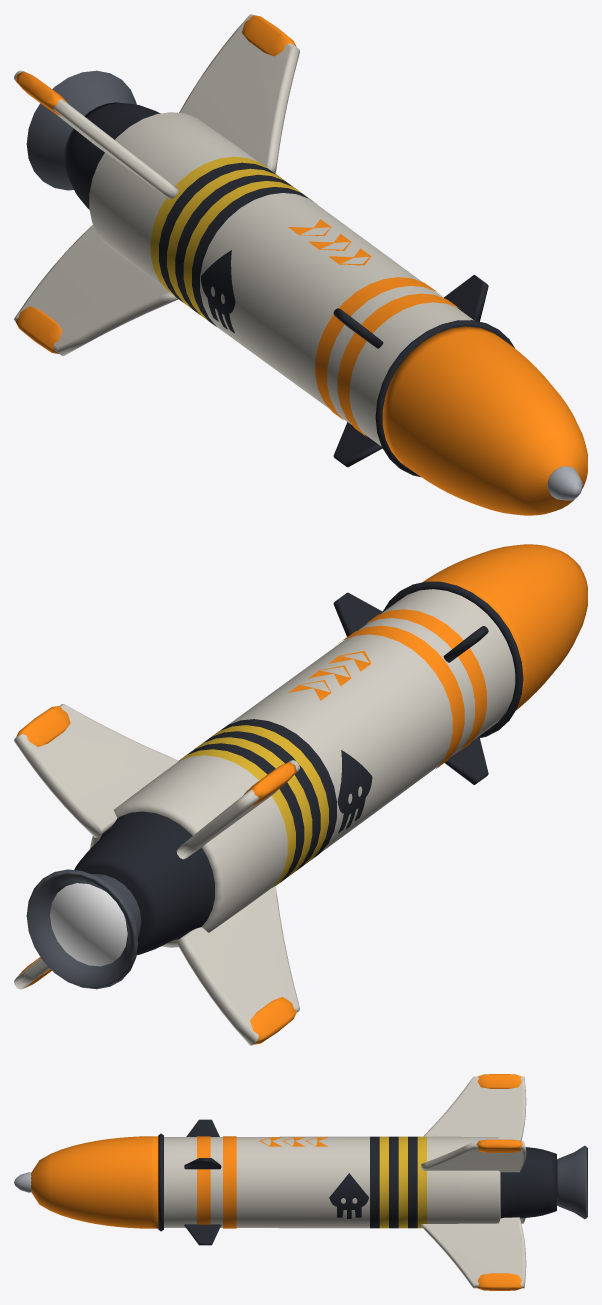
File: special_missile.glb
3 views of the same model, one above another, from view 1: azimuth 30°, elevation 25°; view 2: azimuth 150°, elevation 25°; view 3: azimuth 270°, elevation 25° (orthographic). The views are drawn at different scales.
Visible parts, largest first — view 1: body, ink; view 2: body, ink, glow; view 3: body, ink.
Boxes of the visible parts, <box> form: body: <box>14,14,582,500</box>; ink: <box>16,15,587,515</box>; body: <box>14,562,581,1045</box>; ink: <box>16,544,587,1044</box>; glow: <box>50,883,127,966</box>; body: <box>14,1076,587,1288</box>; ink: <box>31,1074,522,1290</box>.
Size of the model in its own units: 0.3849 by 0.3849 by 1.33.
